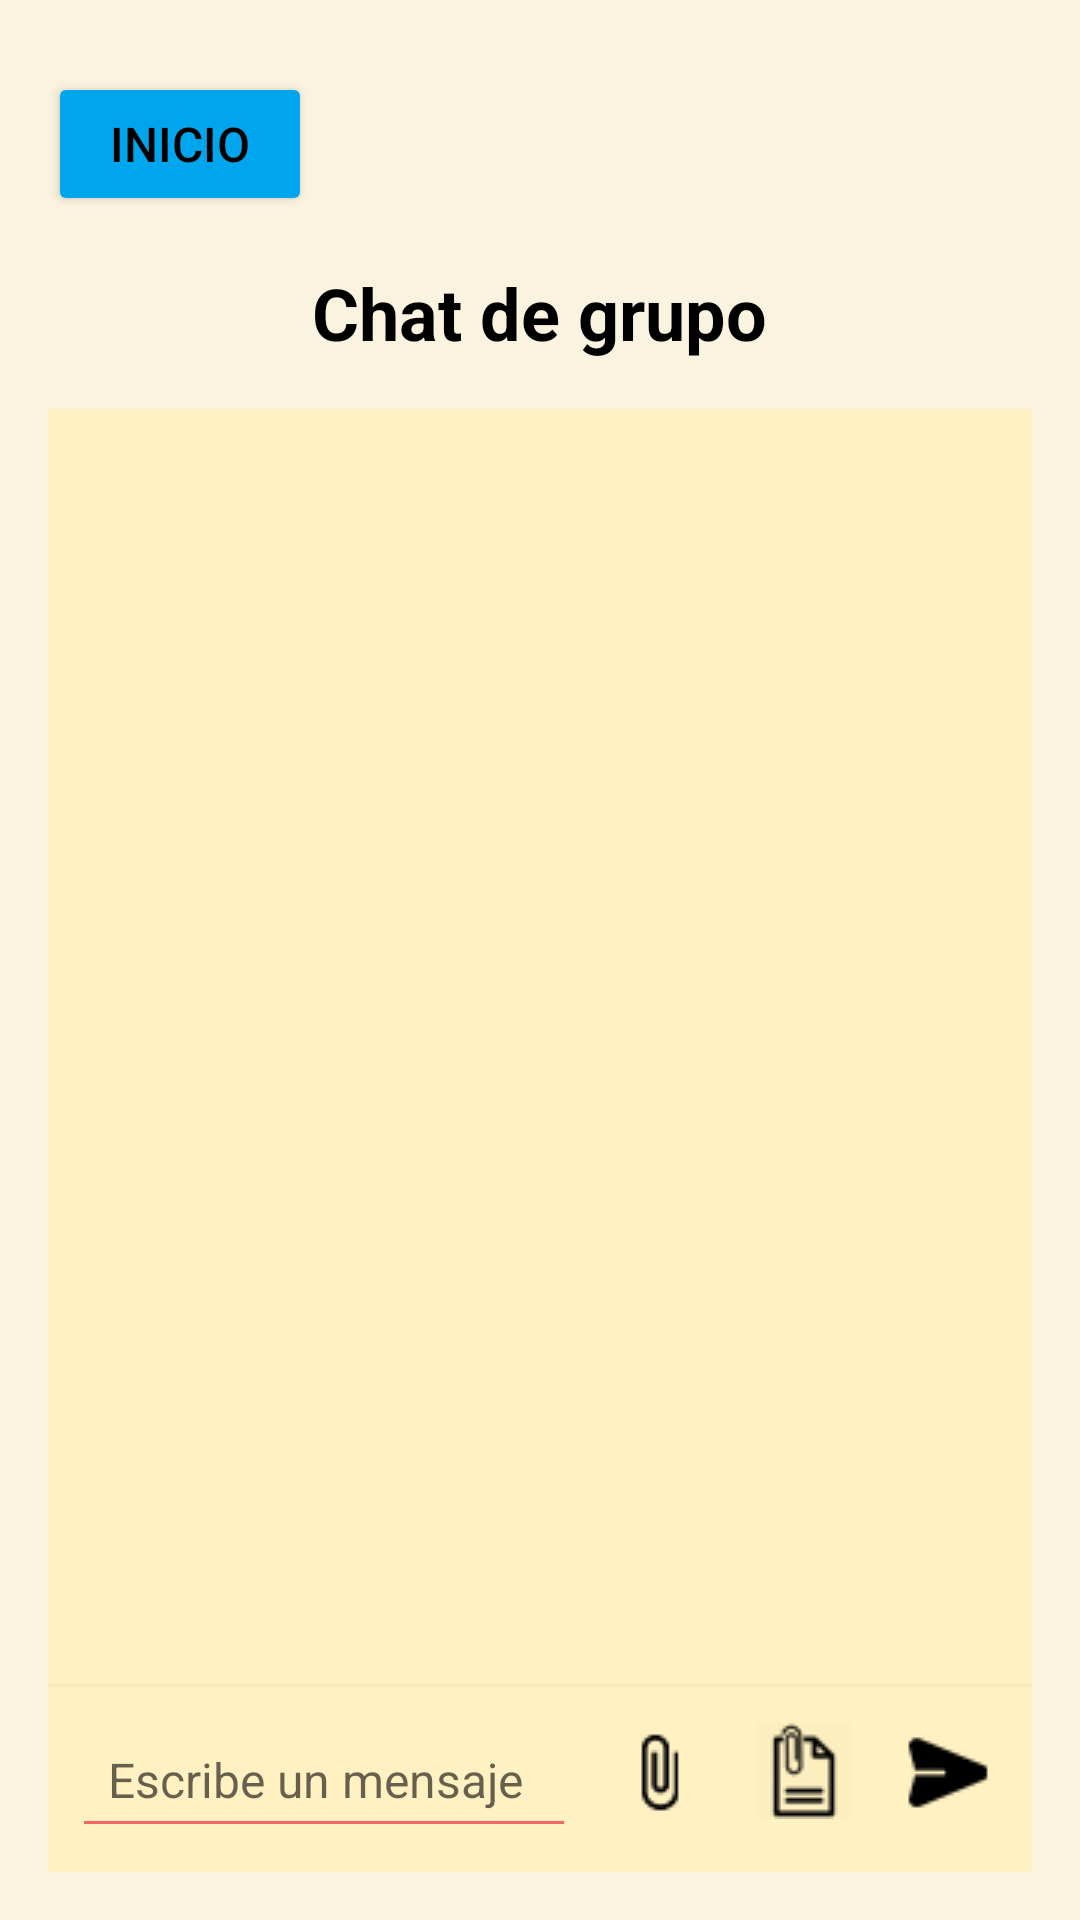

Screen size 1080*1920. Icon name, then its box in pixels as (x1, y1, x2, y2):
Adjuntar documento: (772, 1723, 837, 1819)
Adjuntar imagen: (641, 1734, 679, 1811)
Enviar mensaje: (908, 1737, 988, 1808)
